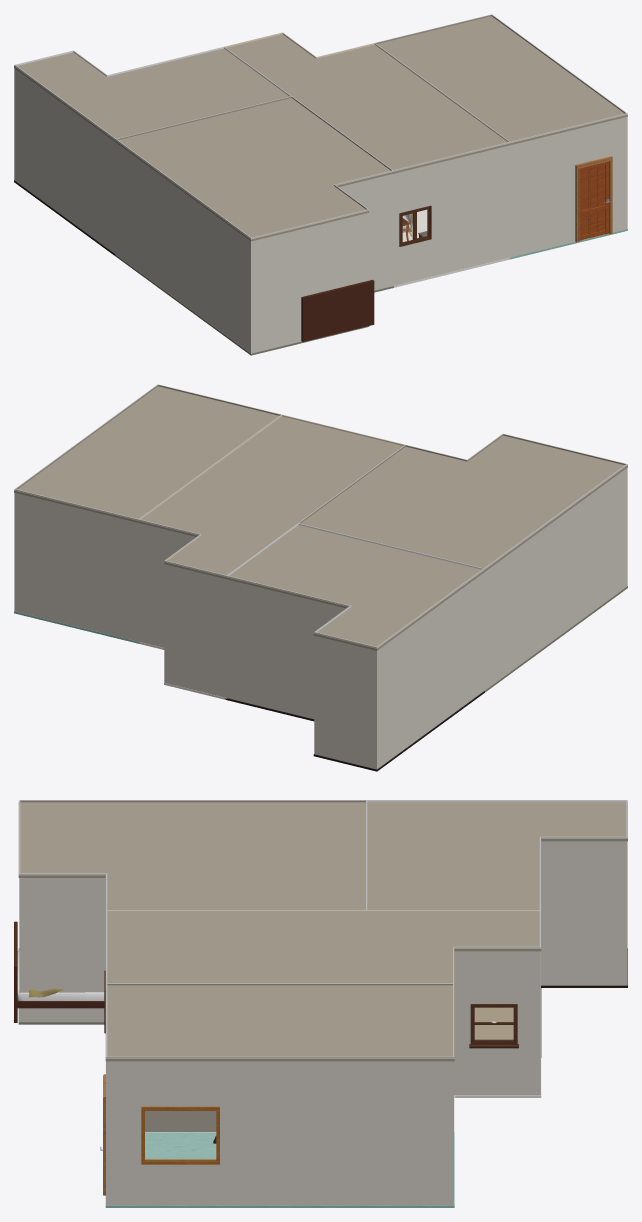
File: ProcTHOR-Train-173.glb
The picture shows the model from 3 angles, top to bottom: view 1: azimuth 30°, elevation 25°; view 2: azimuth 150°, elevation 25°; view 3: azimuth 270°, elevation 25°; orthographic projection. The views are drawn at different scales.
Visible parts, largest first — view 1: Ceiling#room|4|c, Ceiling#room|6|c, WallInside#wall|exterior|11.75|5.04|11.75|11.75, Ceiling#room|7|c, Ceiling#room|5|c, WallInside#wall|exterior|3.36|10.07|6.72|10.07, WallInside#wall|exterior|11.75|0.00|11.75|5.04, WallInside#wall|exterior|0.00|10.07|3.36|10.07, WallInside#wall|exterior|8.39|11.75|11.75|11.75, Bed_30, WallInside#wall|exterior|6.72|10.07|8.39|10.07, Doorway_10 (+3 smaller); view 2: Ceiling#room|4|c, Ceiling#room|6|c, WallInside#wall|exterior|11.75|5.04|11.75|11.75, Ceiling#room|7|c, Ceiling#room|5|c, WallInside#wall|exterior|0.00|3.36|3.36|3.36, WallInside#wall|exterior|11.75|0.00|11.75|5.04, WallInside#wall|exterior|6.72|1.68|10.07|1.68, WallInside#wall|exterior|10.07|0.00|11.75|0.00, WallInside#wall|exterior|5.04|1.68|6.72|1.68, WallInside#wall|exterior|3.36|3.36|5.04|3.36, Floor#room|5|f; view 3: WallInside#wall|exterior|0.00|3.36|0.00|10.07, Ceiling#room|4|c, Ceiling#room|6|c, Ceiling#room|7|c, Ceiling#room|5|c, WallInside#wall|exterior|10.07|0.00|10.07|1.68, WallInside#wall|exterior|8.39|10.07|8.39|11.75, WallInside#wall|exterior|5.04|1.68|5.04|3.36, Floor#room|7|f, WallInside#wall|7|3.36|3.36|3.36|10.07, Bed_30, WallInside#wall|6|6.72|1.68|6.72|5.04 (+4 smaller).
Part boxes in pixels (left/top/right/bottom): Ceiling#room|4|c: left=115, top=98, right=393, bottom=241; Ceiling#room|6|c: left=225, top=34, right=509, bottom=173; WallInside#wall|exterior|11.75|5.04|11.75|11.75: left=115, top=139, right=251, bottom=353; Ceiling#room|7|c: left=377, top=16, right=627, bottom=145; Ceiling#room|5|c: left=14, top=48, right=288, bottom=141; WallInside#wall|exterior|3.36|10.07|6.72|10.07: left=393, top=142, right=510, bottom=285; WallInside#wall|exterior|11.75|0.00|11.75|5.04: left=14, top=65, right=115, bottom=253; WallInside#wall|exterior|0.00|10.07|3.36|10.07: left=510, top=113, right=627, bottom=257; WallInside#wall|exterior|8.39|11.75|11.75|11.75: left=251, top=209, right=368, bottom=353; Bed_30: left=301, top=279, right=374, bottom=341; WallInside#wall|exterior|6.72|10.07|8.39|10.07: left=335, top=170, right=392, bottom=290; Doorway_10: left=575, top=156, right=612, bottom=242; Ceiling#room|4|c: left=301, top=435, right=627, bottom=571; Ceiling#room|6|c: left=139, top=416, right=404, bottom=579; WallInside#wall|exterior|11.75|5.04|11.75|11.75: left=484, top=464, right=627, bottom=690; Ceiling#room|7|c: left=14, top=386, right=279, bottom=522; Ceiling#room|5|c: left=226, top=525, right=484, bottom=650; WallInside#wall|exterior|0.00|3.36|3.36|3.36: left=14, top=489, right=138, bottom=641; WallInside#wall|exterior|11.75|0.00|11.75|5.04: left=377, top=569, right=484, bottom=769; WallInside#wall|exterior|6.72|1.68|10.07|1.68: left=226, top=576, right=349, bottom=719; WallInside#wall|exterior|10.07|0.00|11.75|0.00: left=314, top=632, right=376, bottom=769; WallInside#wall|exterior|5.04|1.68|6.72|1.68: left=164, top=560, right=226, bottom=697; WallInside#wall|exterior|3.36|3.36|5.04|3.36: left=138, top=519, right=199, bottom=647; Floor#room|5|f: left=225, top=691, right=484, bottom=771; WallInside#wall|exterior|0.00|3.36|0.00|10.07: left=106, top=1057, right=453, bottom=1205; Ceiling#room|4|c: left=18, top=802, right=367, bottom=911; Ceiling#room|6|c: left=105, top=911, right=541, bottom=985; Ceiling#room|7|c: left=105, top=985, right=454, bottom=1061; Ceiling#room|5|c: left=365, top=802, right=627, bottom=910; WallInside#wall|exterior|10.07|0.00|10.07|1.68: left=540, top=837, right=627, bottom=985; WallInside#wall|exterior|8.39|10.07|8.39|11.75: left=19, top=873, right=105, bottom=1022; WallInside#wall|exterior|5.04|1.68|5.04|3.36: left=454, top=947, right=540, bottom=1095; Floor#room|7|f: left=105, top=1132, right=454, bottom=1207; WallInside#wall|7|3.36|3.36|3.36|10.07: left=106, top=983, right=452, bottom=1131; Bed_30: left=14, top=921, right=104, bottom=1022; WallInside#wall|6|6.72|1.68|6.72|5.04: left=367, top=910, right=540, bottom=1039.
Size of what is drawn, in the model's own units: 11.81 by 3.23 by 11.89.
291 materials, 105 textured.
